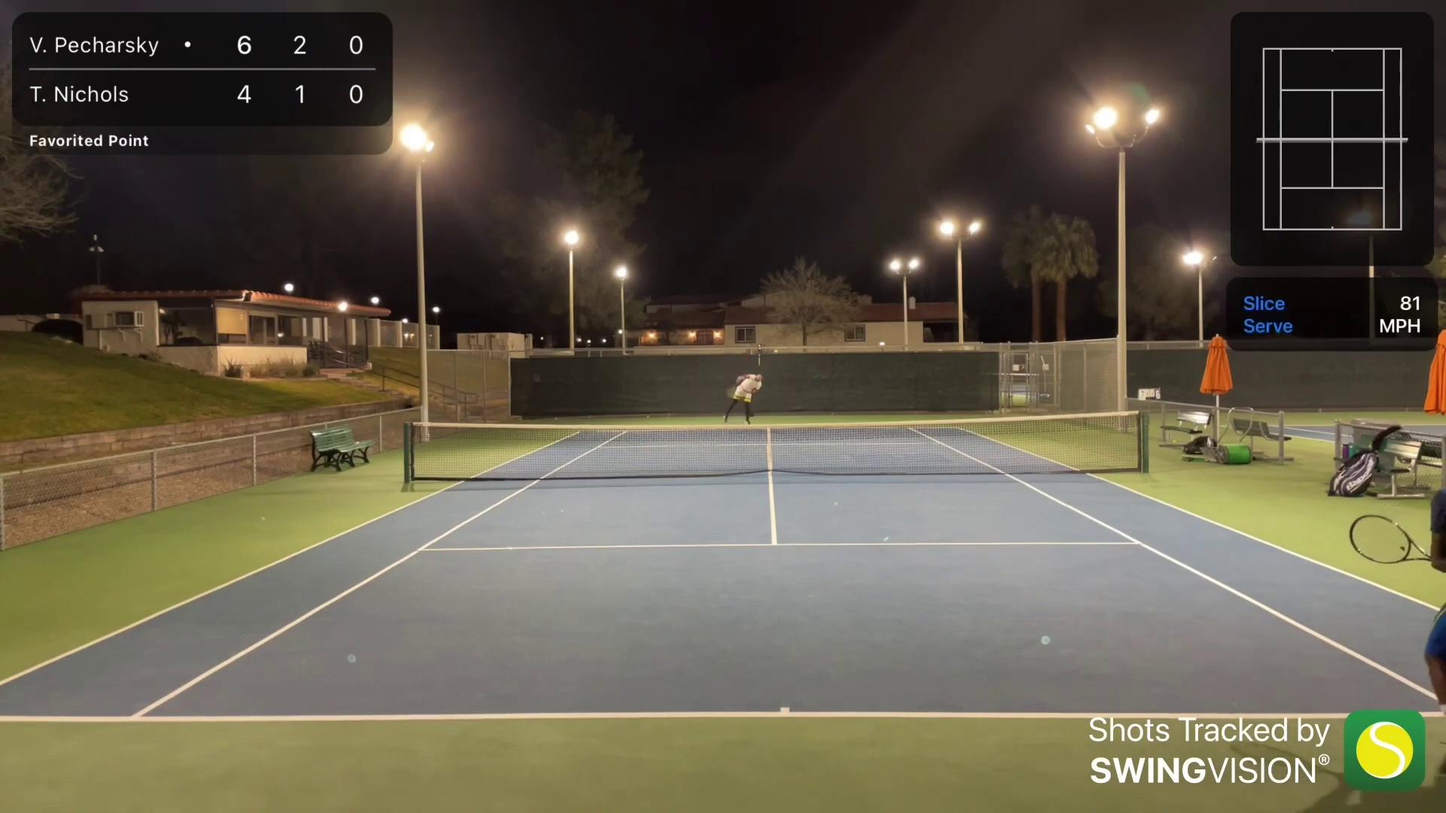ball: (775, 349, 781, 354)
